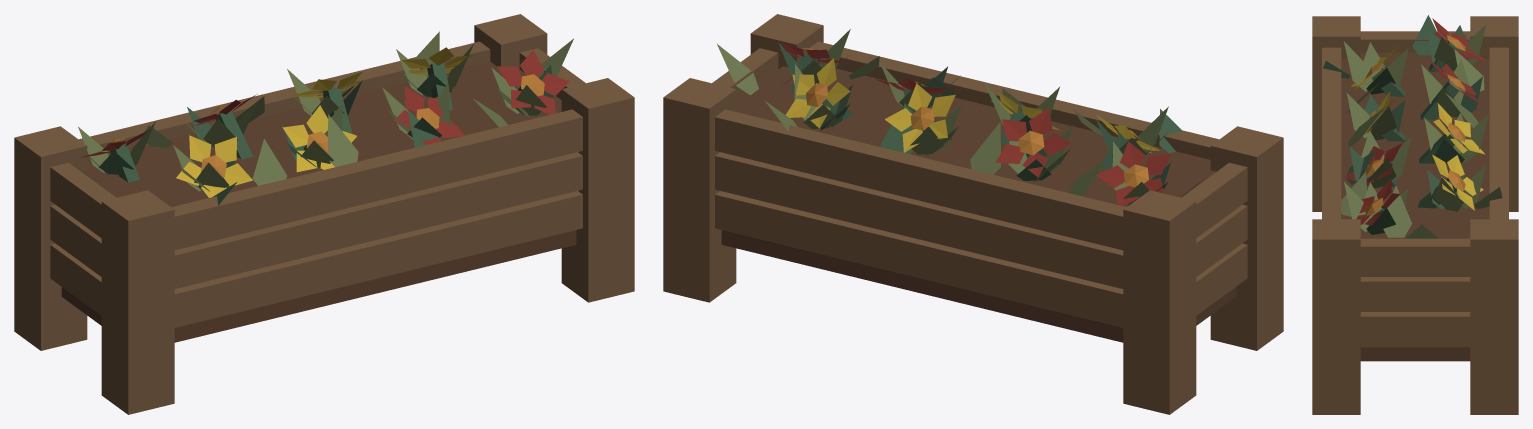
The model's file is flower-planter-500ed2.glb.
3 views of the same model, side by side, from view 1: azimuth 30°, elevation 25°; view 2: azimuth 150°, elevation 25°; view 3: azimuth 270°, elevation 25° (orthographic). The views are drawn at different scales.
Parts seen in each view (by area): view 1: planter; view 2: planter; view 3: planter.
Boxes of the visible parts, x1,y1,x2,y2 form: planter: (14,14,634,414); planter: (663,14,1283,414); planter: (1312,15,1518,414).
Size of the model in its own units: 0.8203 by 0.3547 by 0.32.
